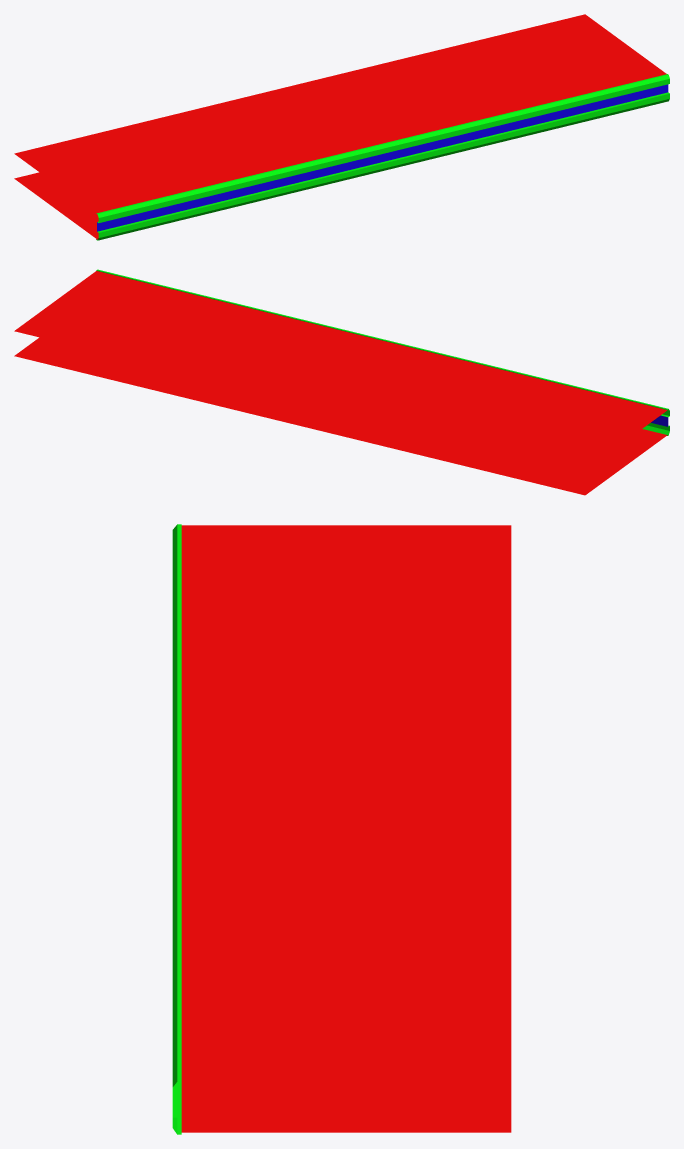
The model's file is Floor - 24 Units.FBX.
3 renders of one model, top to bottom at view 1: azimuth 30°, elevation 25°; view 2: azimuth 150°, elevation 25°; view 3: azimuth 270°, elevation 25°, orthographic. The views are drawn at different scales.
Parts seen in each view (by area): view 1: Floor_low; view 2: Floor_low; view 3: Floor_low.
Boxes of the visible parts, left/top/right/bottom form: Floor_low: left=14, top=14, right=669, bottom=240; Floor_low: left=14, top=269, right=669, bottom=495; Floor_low: left=172, top=524, right=511, bottom=1134.
Bounding box in the file's own units: 2400 × 107 × 617.
